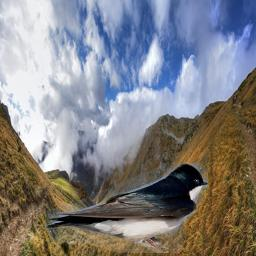Swallow: (45, 163, 208, 253)
